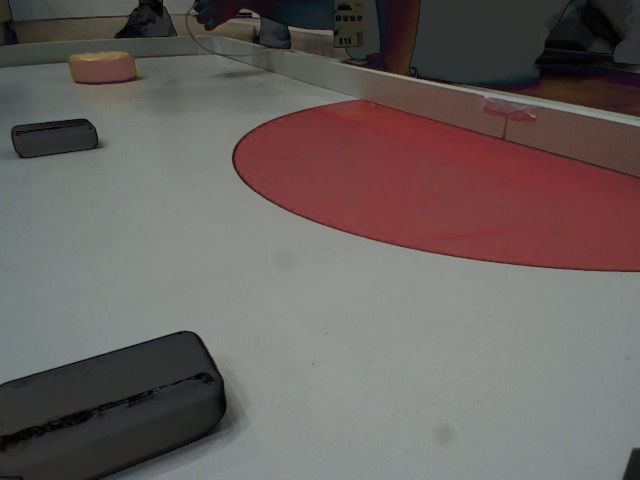black: (1, 328, 230, 472), (13, 112, 101, 169)
yellow: (69, 49, 145, 91)
